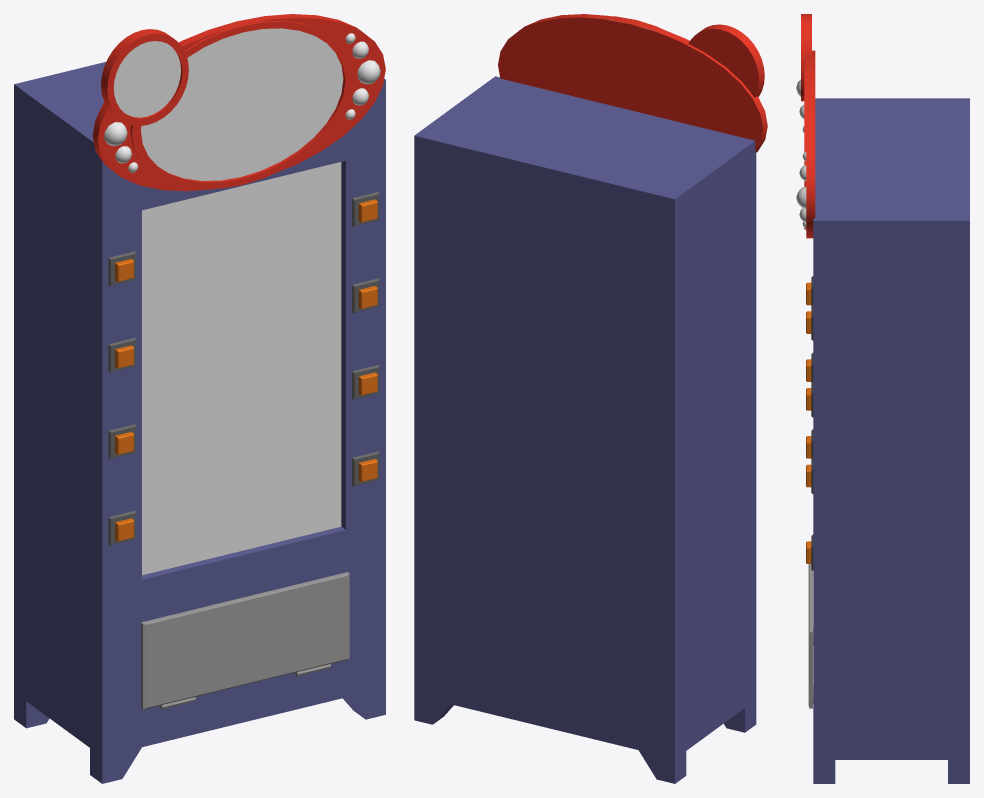
Rendered from vendingMachine.fbx.
3 views of the same model, side by side, from view 1: azimuth 30°, elevation 25°; view 2: azimuth 150°, elevation 25°; view 3: azimuth 270°, elevation 25° (orthographic). The views are drawn at different scales.
Parts seen in each view (by area): view 1: Vending Machine, Vending Machine Glass, Sign, Vending Machine Flap; view 2: Vending Machine, Sign; view 3: Vending Machine, Sign, Vending Machine Flap.
Boxes of the visible parts, <box> form: Vending Machine: <box>14,62,385,783</box>; Vending Machine Glass: <box>142,162,341,575</box>; Sign: <box>92,14,385,191</box>; Vending Machine Flap: <box>141,572,349,709</box>; Vending Machine: <box>414,76,756,783</box>; Sign: <box>498,14,767,152</box>; Vending Machine: <box>806,98,969,783</box>; Sign: <box>796,14,815,238</box>; Vending Machine Flap: <box>808,564,813,708</box>.
Size of the model in its own units: 99.41 by 57.75 by 242.
